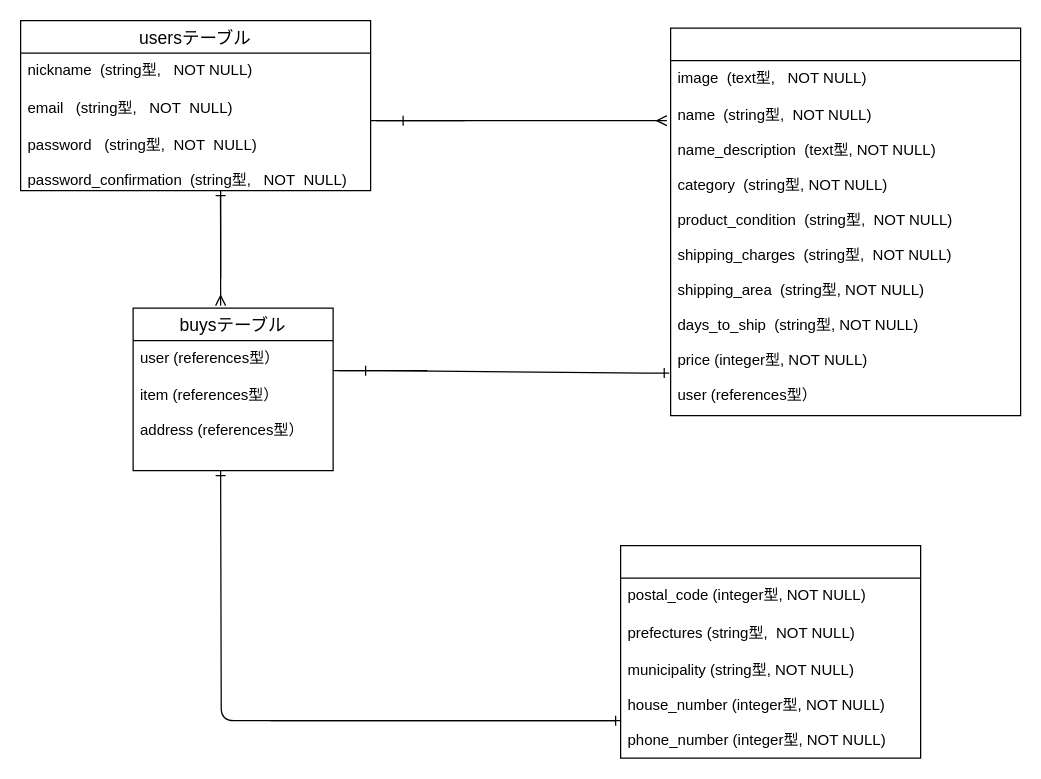
Some shapes in this 1041 by 779 pixel diagram are drawn without their labels. Each missing label, with the box of its shape:
addressテーブル: (619, 544, 921, 758)
itemsテーブル: (669, 27, 1021, 416)
